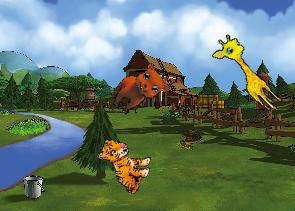bear: (105, 56, 174, 126)
giraffe: (207, 30, 292, 115)
tiger: (90, 135, 156, 196)
